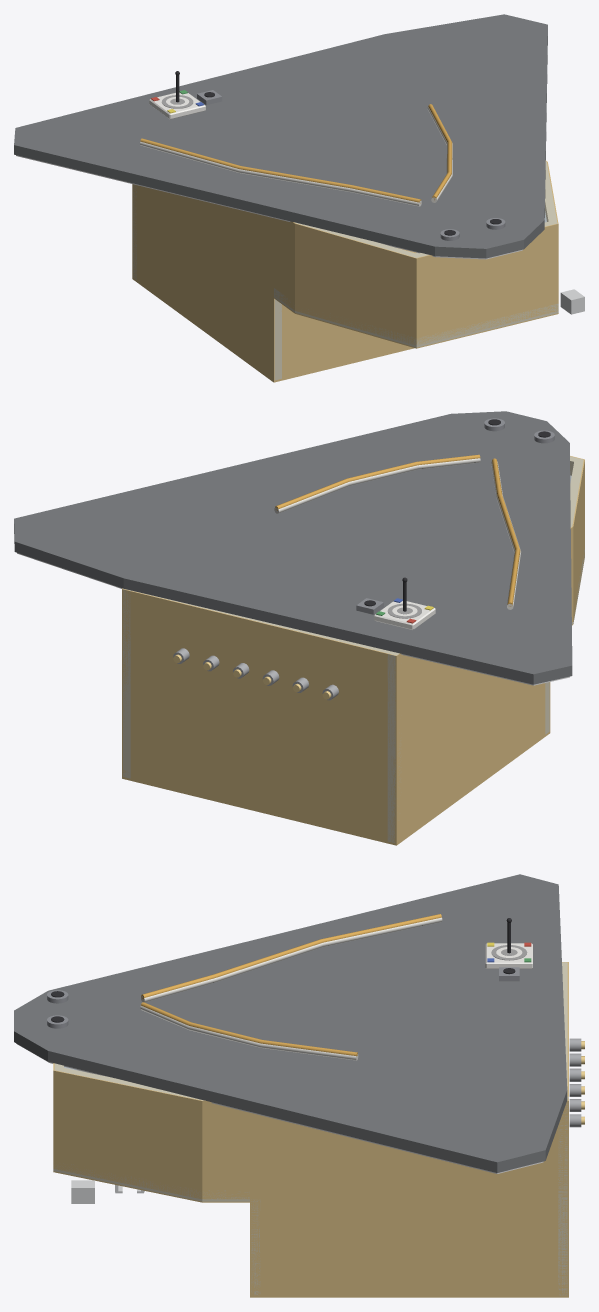
The model's file is mer-chassis.glb.
The picture shows the model from 3 angles, top to bottom: view 1: azimuth 30°, elevation 25°; view 2: azimuth 150°, elevation 25°; view 3: azimuth 270°, elevation 25°; orthographic projection. The views are drawn at different scales.
Visible parts, largest first — view 1: RED_DECK, WEB_WALL_RIGHT_LOWER, WEB_WALL_FRONT, WEB_WALL_FRONT_RIGHT, WEB_WALL_RIGHT, WEB_BAY_BACK_WALL, CHASSIS_HARNESS, WEB_SHELF, WEB_BELLY_PAN, PANCAM_CALTARGET, MAGNET_ARRAYS, IDD_STOW_FEATURES (+1 smaller); view 2: RED_DECK, WEB_WALL_REAR, WEB_WALL_RIGHT_LOWER, WEB_WALL_RIGHT, WEB_BELLY_PAN, CHASSIS_HARNESS, WEB_WALL_FRONT_RIGHT, PANCAM_CALTARGET, WEB_BULKHEAD_CONNECTORS, WEB_WALL_LEFT_LOWER, WEB_WALL_LEFT, MAGNET_ARRAYS; view 3: RED_DECK, WEB_WALL_LEFT_LOWER, WEB_WALL_LEFT, WEB_WALL_FRONT_LEFT, CHASSIS_HARNESS, WEB_WALL_REAR, PANCAM_CALTARGET, WEB_BULKHEAD_CONNECTORS, WEB_SHELF, WEB_BELLY_PAN, MAGNET_ARRAYS, IDD_STOW_FEATURES.
Boxes of the visible parts, x1,y1,x2,y2 form: RED_DECK: [14, 14, 547, 259]; WEB_WALL_RIGHT_LOWER: [132, 192, 281, 380]; WEB_WALL_FRONT: [414, 220, 558, 344]; WEB_WALL_FRONT_RIGHT: [295, 223, 420, 344]; WEB_WALL_RIGHT: [132, 184, 295, 310]; WEB_BAY_BACK_WALL: [273, 297, 410, 378]; CHASSIS_HARNESS: [140, 104, 452, 206]; WEB_SHELF: [274, 253, 558, 348]; WEB_BELLY_PAN: [132, 248, 416, 382]; PANCAM_CALTARGET: [149, 71, 205, 119]; MAGNET_ARRAYS: [197, 90, 505, 240]; IDD_STOW_FEATURES: [560, 289, 584, 314]; RED_DECK: [14, 411, 572, 685]; WEB_WALL_REAR: [122, 588, 401, 843]; WEB_WALL_RIGHT_LOWER: [387, 677, 545, 843]; WEB_WALL_RIGHT: [387, 526, 573, 750]; WEB_BELLY_PAN: [122, 731, 550, 845]; CHASSIS_HARNESS: [274, 454, 521, 609]; WEB_WALL_FRONT_RIGHT: [570, 459, 584, 620]; PANCAM_CALTARGET: [374, 577, 435, 629]; WEB_BULKHEAD_CONNECTORS: [173, 648, 338, 700]; WEB_WALL_LEFT_LOWER: [122, 684, 130, 778]; WEB_WALL_LEFT: [122, 588, 130, 685]; MAGNET_ARRAYS: [356, 418, 554, 614]; RED_DECK: [14, 874, 567, 1173]; WEB_WALL_LEFT_LOWER: [250, 1199, 568, 1295]; WEB_WALL_LEFT: [202, 1096, 568, 1199]; WEB_WALL_FRONT_LEFT: [53, 1068, 202, 1199]; CHASSIS_HARNESS: [140, 914, 442, 1060]; WEB_WALL_REAR: [558, 962, 568, 1295]; PANCAM_CALTARGET: [485, 918, 532, 968]; WEB_BULKHEAD_CONNECTORS: [569, 1038, 584, 1127]; WEB_SHELF: [53, 1163, 249, 1202]; WEB_BELLY_PAN: [250, 1295, 568, 1297]; MAGNET_ARRAYS: [47, 967, 519, 1028]; IDD_STOW_FEATURES: [71, 1180, 144, 1203].
Bounding box in the file's own units: 1.14 × 0.4645 × 0.958.
